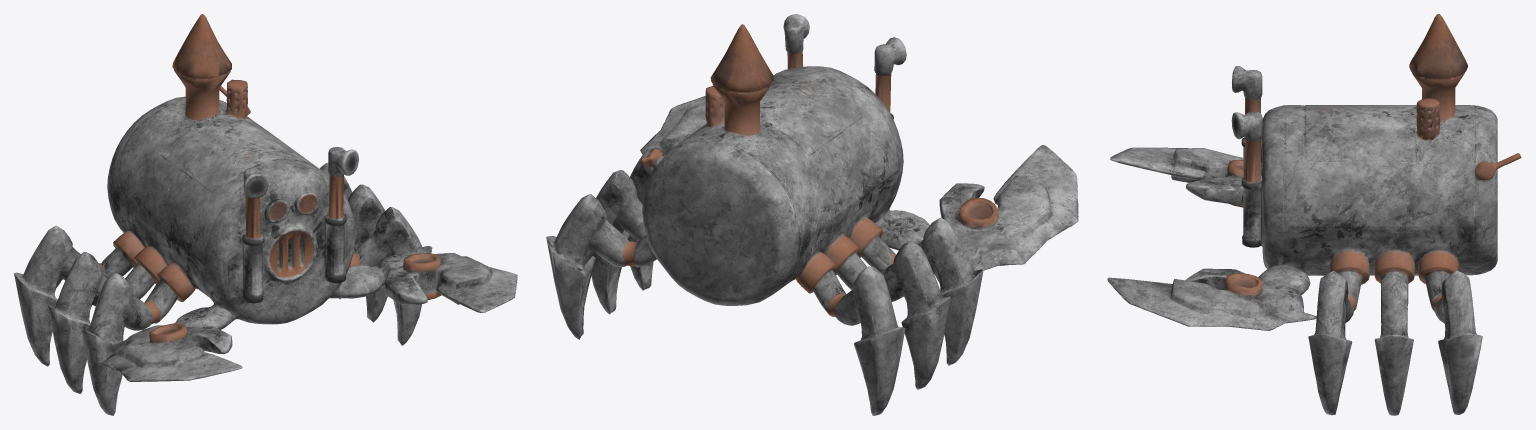
File: MZ4250 - Apparatus of Kwalish.glb
3 renders of one model, left to right at view 1: azimuth 30°, elevation 25°; view 2: azimuth 150°, elevation 25°; view 3: azimuth 270°, elevation 25°, orthographic. The views are drawn at different scales.
Parts seen in each view (by area): view 1: Apparatus of Kwalish_Low.001; view 2: Apparatus of Kwalish_Low.001; view 3: Apparatus of Kwalish_Low.001.
Boxes of the visible parts, <box> form: Apparatus of Kwalish_Low.001: <box>14,14,517,415</box>; Apparatus of Kwalish_Low.001: <box>546,14,1078,415</box>; Apparatus of Kwalish_Low.001: <box>1107,14,1521,415</box>.
Size of the model in its own units: 4.52 by 3.64 by 4.15.
1 material, 1 textured.
